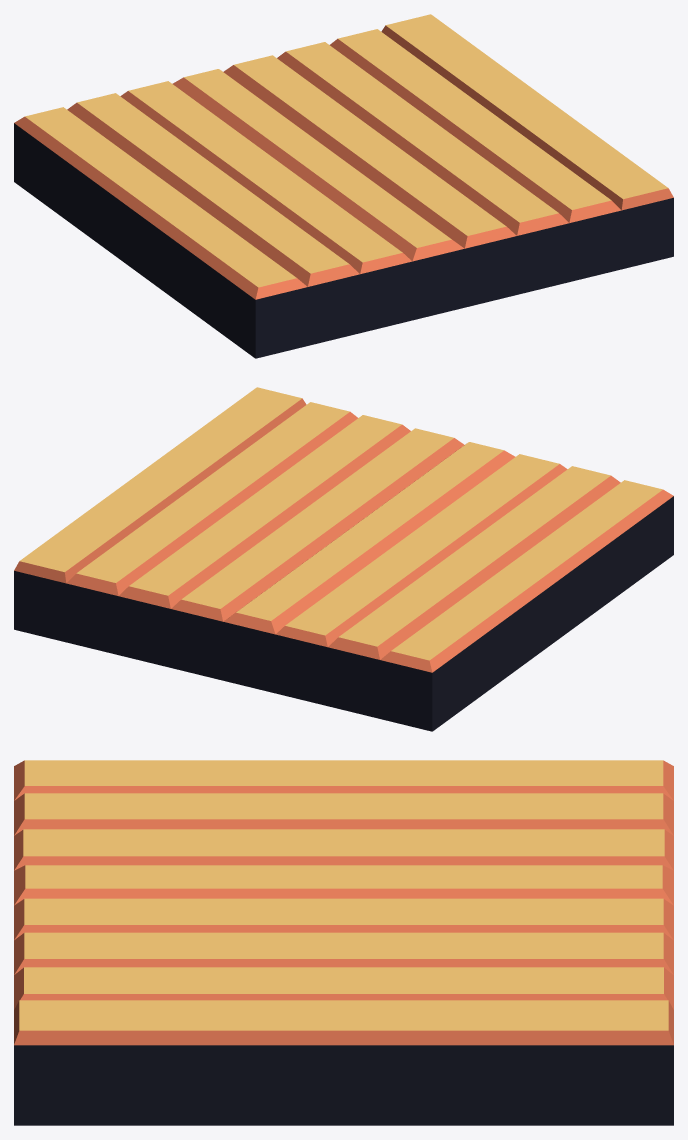
File: Platforma.fbx
3 views of the same model, one above another, from view 1: azimuth 30°, elevation 25°; view 2: azimuth 150°, elevation 25°; view 3: azimuth 270°, elevation 25° (orthographic). The views are drawn at different scales.
Parts seen in each view (by area): view 1: Куб; view 2: Куб; view 3: Куб.
Part boxes in pixels (x1,y1,x2,y2): Куб: [14, 14, 673, 358]; Куб: [14, 387, 673, 731]; Куб: [14, 760, 673, 1125].
Size of the model in its own units: 261 by 40.55 by 261.
